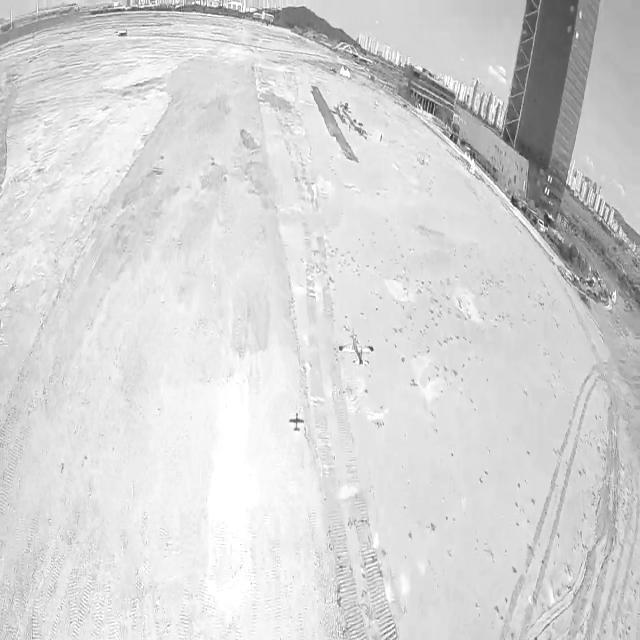iha: (338, 332, 390, 378), (307, 60, 359, 65)
